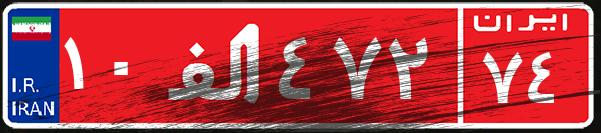0: (110, 28, 158, 105)
1: (57, 26, 110, 107)
2: (385, 28, 445, 110)
4: (273, 28, 330, 110), (525, 38, 570, 115)
7: (330, 28, 385, 110), (475, 38, 525, 113)
الف: (158, 15, 273, 115)
